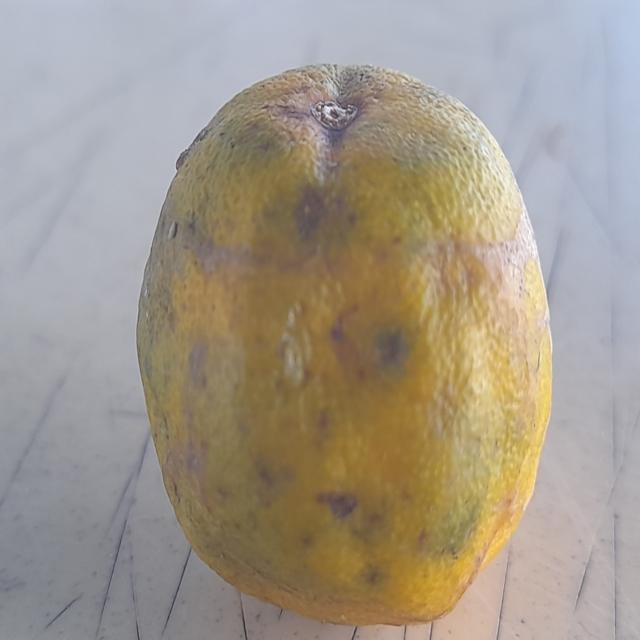black spot: (138, 59, 560, 633)
